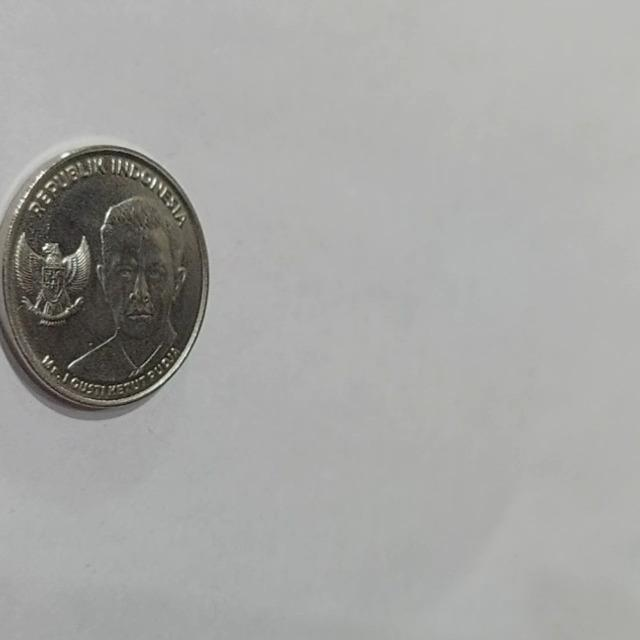Rp100: (0, 142, 211, 414)
